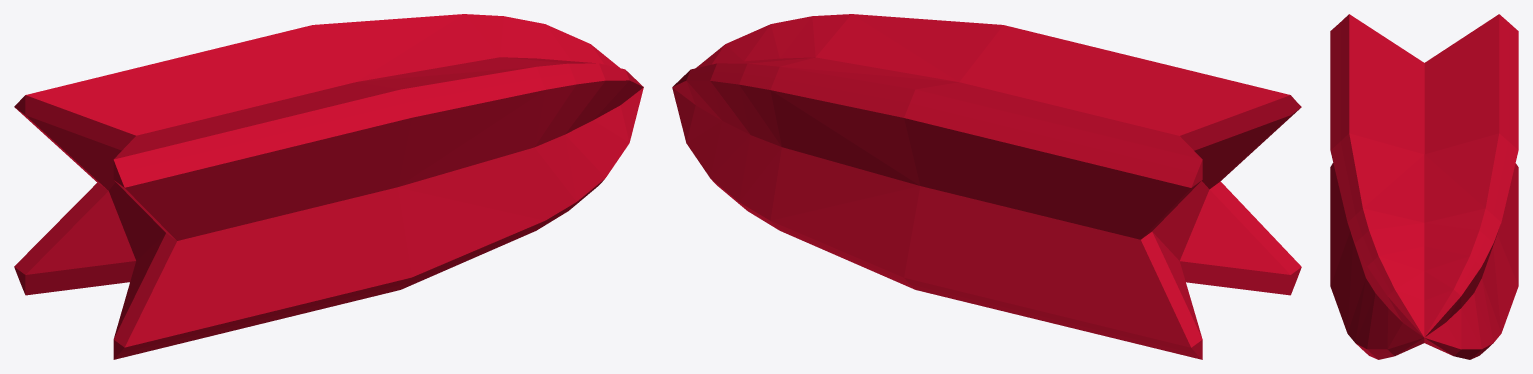
File: BazookaRocket.fbx
3 renders of one model, left to right at view 1: azimuth 30°, elevation 25°; view 2: azimuth 150°, elevation 25°; view 3: azimuth 270°, elevation 25°, orthographic. The views are drawn at different scales.
Visible parts, largest first — view 1: BazookaRocket; view 2: BazookaRocket; view 3: BazookaRocket.
Part boxes in pixels (x1,y1,x2,y2): BazookaRocket: (14,14,643,359); BazookaRocket: (672,14,1301,359); BazookaRocket: (1330,14,1518,359).
Size of what is drawn, in the model's own units: 9.6 by 3.2 by 3.2.
